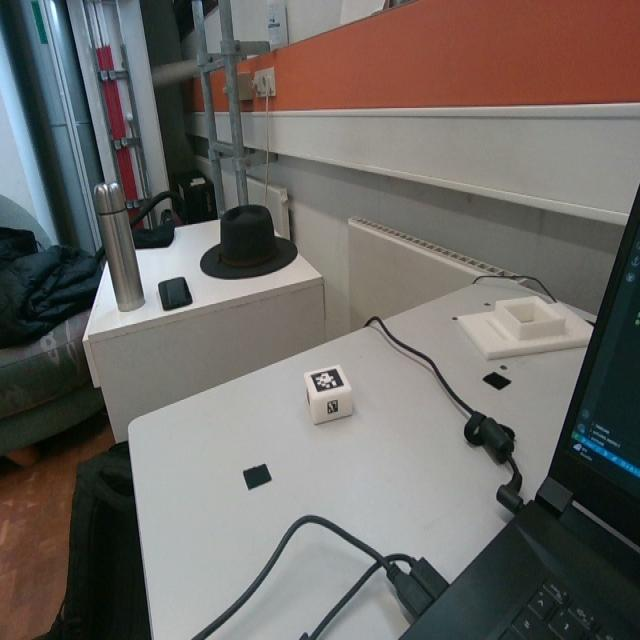Cube: (303, 362, 352, 427)
